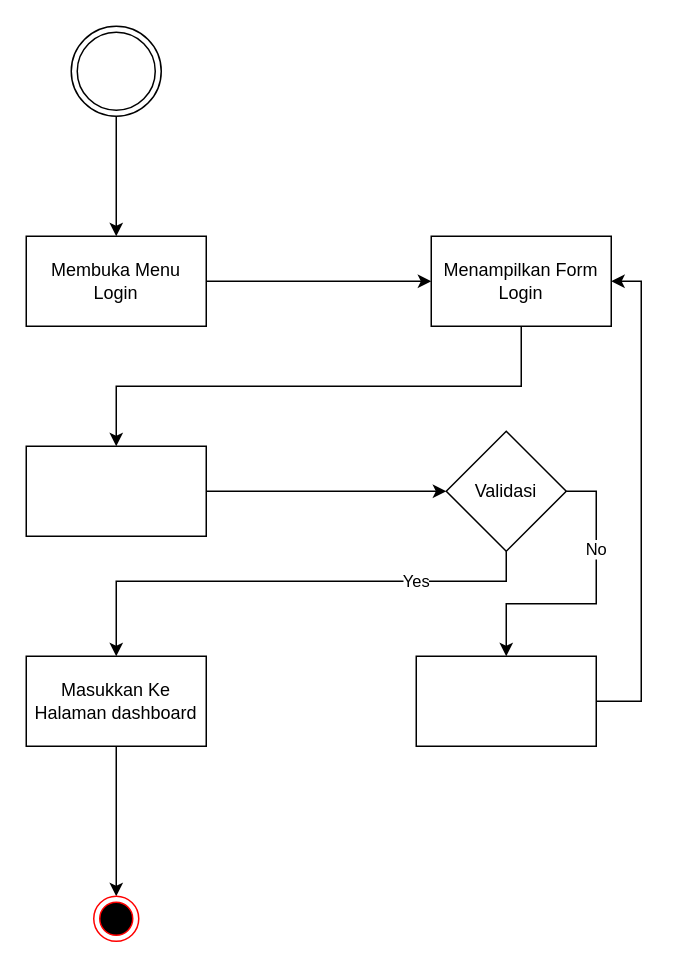
The diagram is 680 pixels wide and 968 high, and some of its shapes have lost their labels. The centre of each missing label's shape, as x and y in pixels:
"Memasukkan Email dan password" belongs at (115,490).
"Menampilkan Pesan Error Email / Password Salah" belongs at (505,700).
